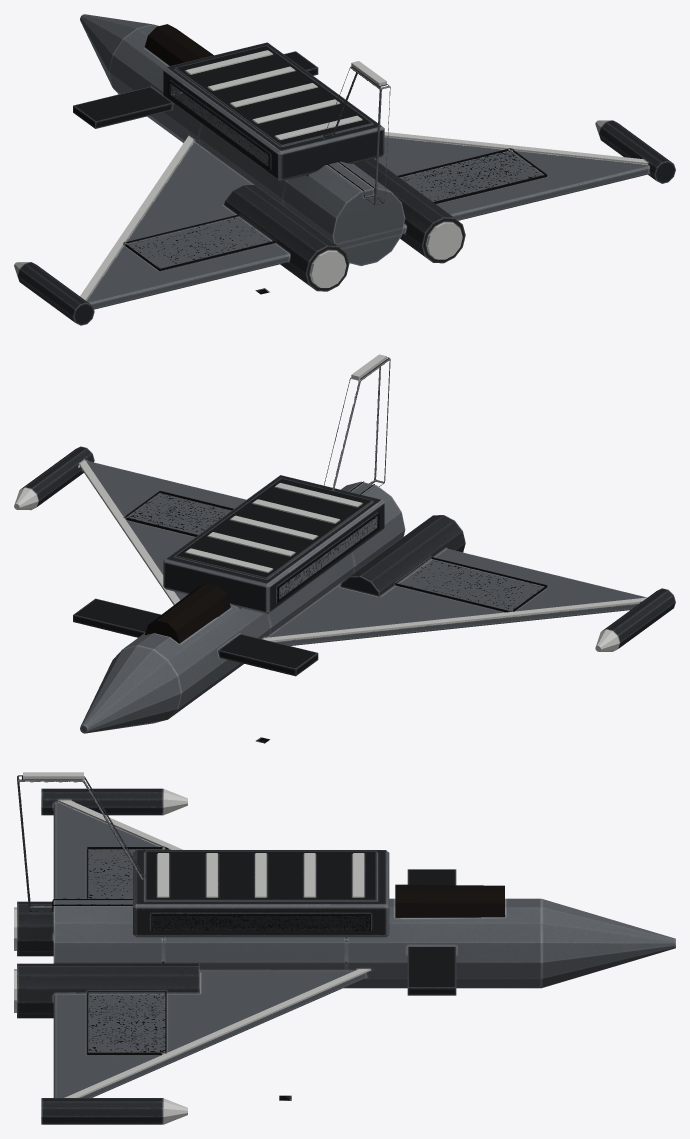
Rendered from chs_banshee.fbx.
3 renders of one model, top to bottom at view 1: azimuth 30°, elevation 25°; view 2: azimuth 150°, elevation 25°; view 3: azimuth 270°, elevation 25°, orthographic. The views are drawn at different scales.
Parts seen in each view (by area): view 1: base_bar, dish_bar, base_glow_running_bar, dish_glow_power_bar; view 2: base_bar, dish_bar, base_glow_running_bar, dish_glow_power_bar, base_glow_power_bar; view 3: base_bar, dish_bar, base_glow_running_bar, dish_glow_power_bar, base_glow_power_bar.
Part boxes in pixels (x1,y1,x2,y2): base_bar: [17, 14, 675, 325]; dish_bar: [163, 42, 384, 181]; base_glow_running_bar: [80, 61, 648, 300]; dish_glow_power_bar: [185, 50, 362, 139]; base_bar: [20, 357, 675, 733]; dish_bar: [163, 475, 384, 613]; base_glow_running_bar: [79, 354, 647, 641]; dish_glow_power_bar: [185, 483, 362, 572]; base_glow_power_bar: [14, 487, 619, 651]; base_bar: [17, 775, 675, 1124]; dish_bar: [133, 850, 389, 937]; base_glow_running_bar: [14, 772, 371, 1097]; dish_glow_power_bar: [158, 853, 364, 897]; base_glow_power_bar: [163, 789, 187, 1124].
Size of the model in its own units: 1244 by 586 by 1085.
2 materials, 2 textured.
